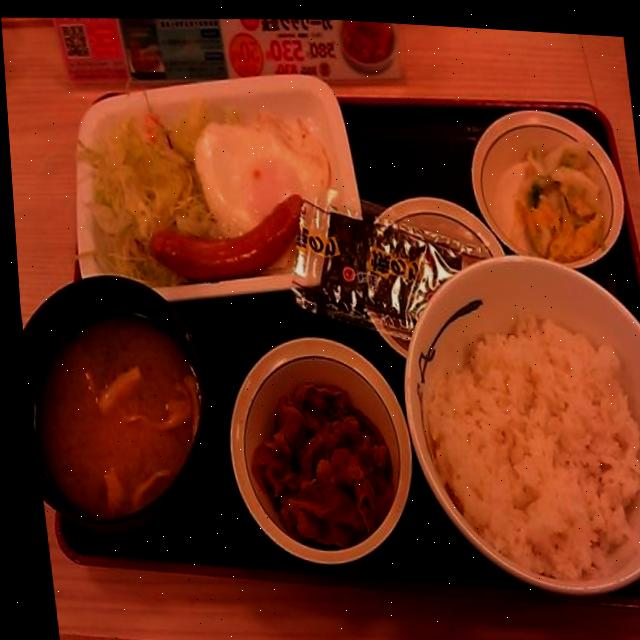汤锅炖物: (14, 260, 224, 529)
米饭主食: (386, 232, 640, 595)
蔬菜料理: (60, 100, 224, 280)
鸡蛋料理: (182, 98, 343, 245)
